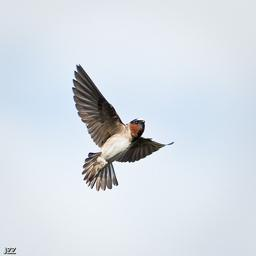Swallow: (71, 61, 175, 195)
